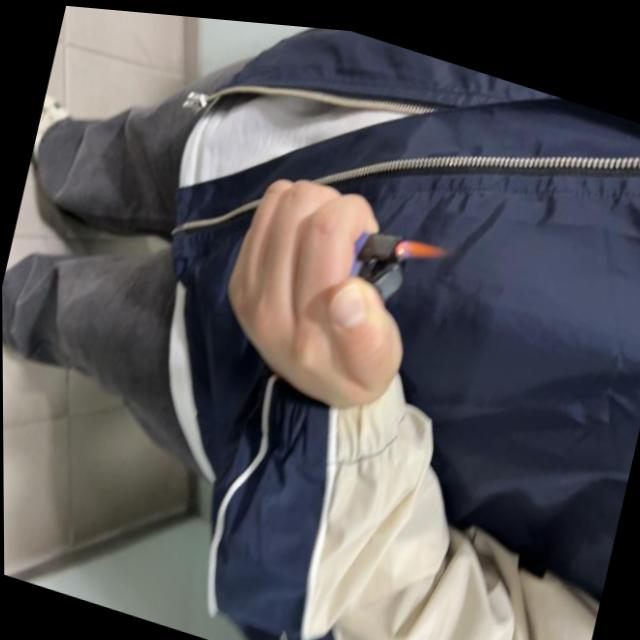Fire: (393, 225, 453, 270)
